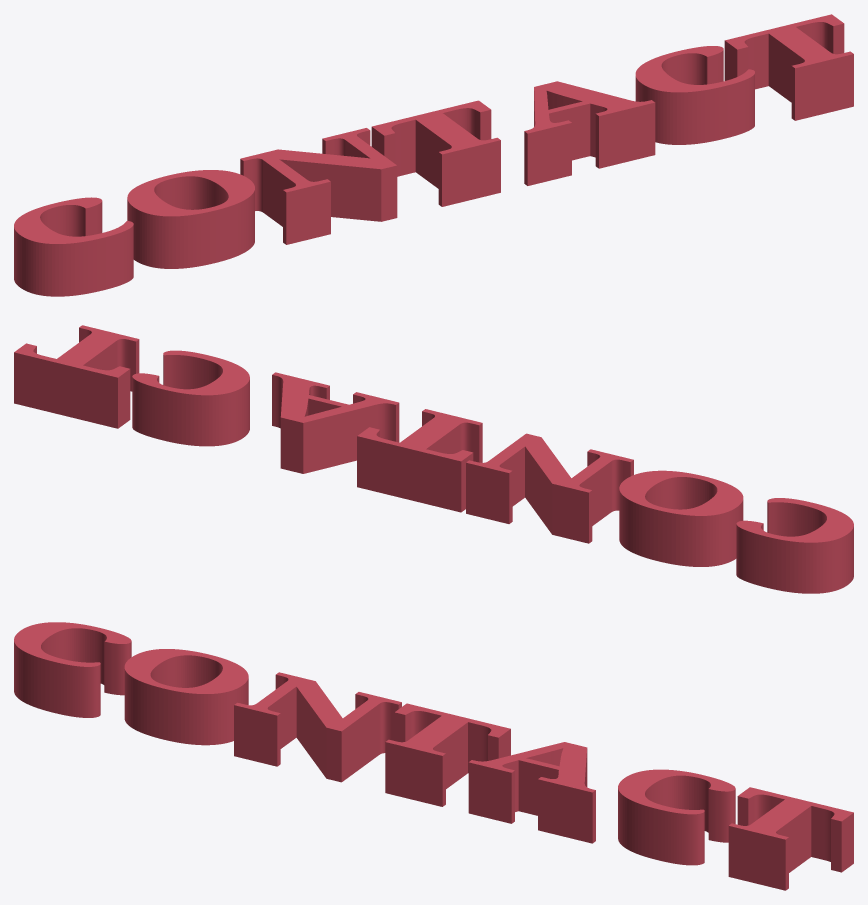
File: contacttext.glb
3 renders of one model, top to bottom at view 1: azimuth 30°, elevation 25°; view 2: azimuth 150°, elevation 25°; view 3: azimuth 330°, elevation 25°, orthographic. The views are drawn at different scales.
Parts seen in each view (by area): view 1: Mesh_Mesh_head_geo.001_lambert2SG.001; view 2: Mesh_Mesh_head_geo.001_lambert2SG.001; view 3: Mesh_Mesh_head_geo.001_lambert2SG.001.
Boxes of the visible parts, x1,y1,x2,y2 form: Mesh_Mesh_head_geo.001_lambert2SG.001: (14,14,853,296); Mesh_Mesh_head_geo.001_lambert2SG.001: (14,325,853,593); Mesh_Mesh_head_geo.001_lambert2SG.001: (14,622,853,890).
Bounding box in the file's own units: 166 × 10 × 16.4.
